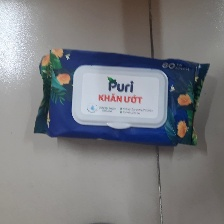Puri Xanh: (33, 45, 213, 152)
